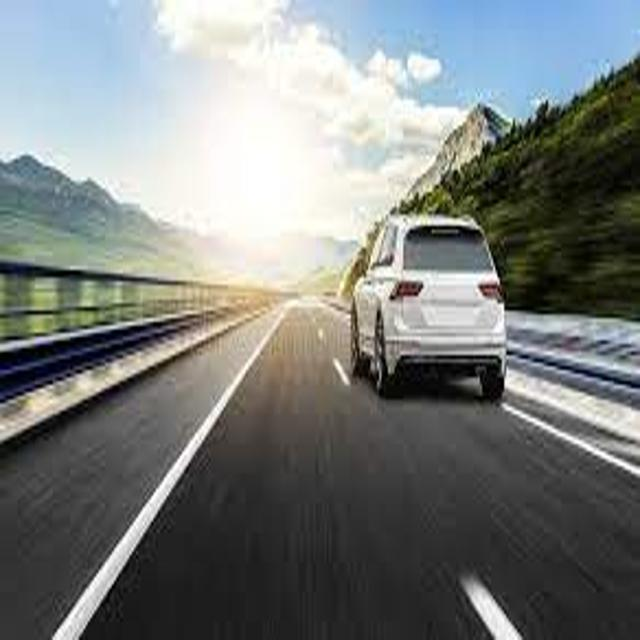car: (351, 213, 506, 397)
